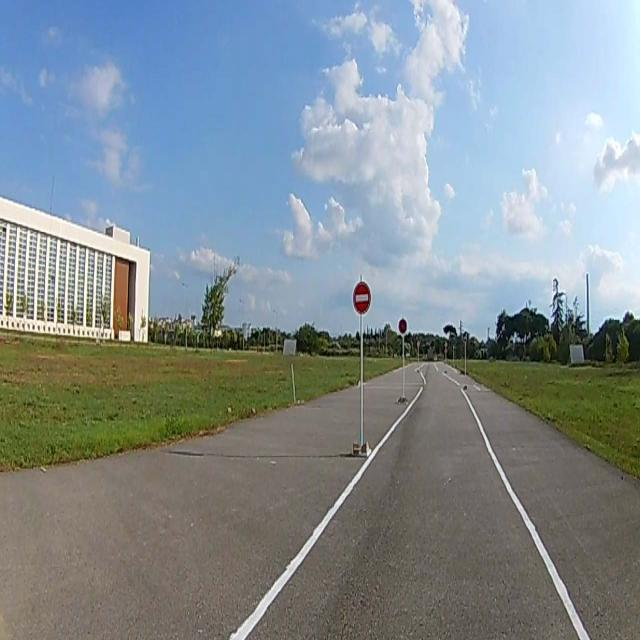girisyok: (353, 283, 371, 314)
